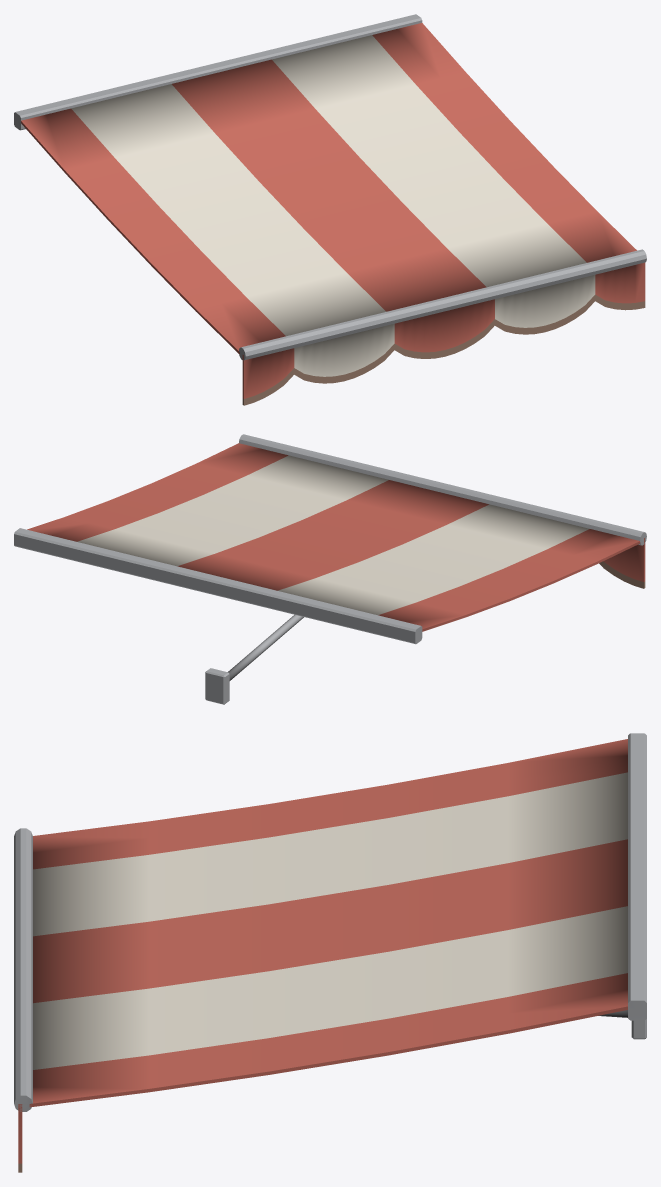
The model's file is awning.glb.
3 renders of one model, top to bottom at view 1: azimuth 30°, elevation 25°; view 2: azimuth 150°, elevation 25°; view 3: azimuth 270°, elevation 25°, orthographic. The views are drawn at different scales.
Visible parts, largest first — view 1: PART; view 2: PART; view 3: PART.
Boxes of the visible parts, <box> form: PART: <box>14,14,646,405</box>; PART: <box>14,434,646,704</box>; PART: <box>14,733,646,1172</box>.
Size of the model in its own units: 1 by 0.3 by 1.
